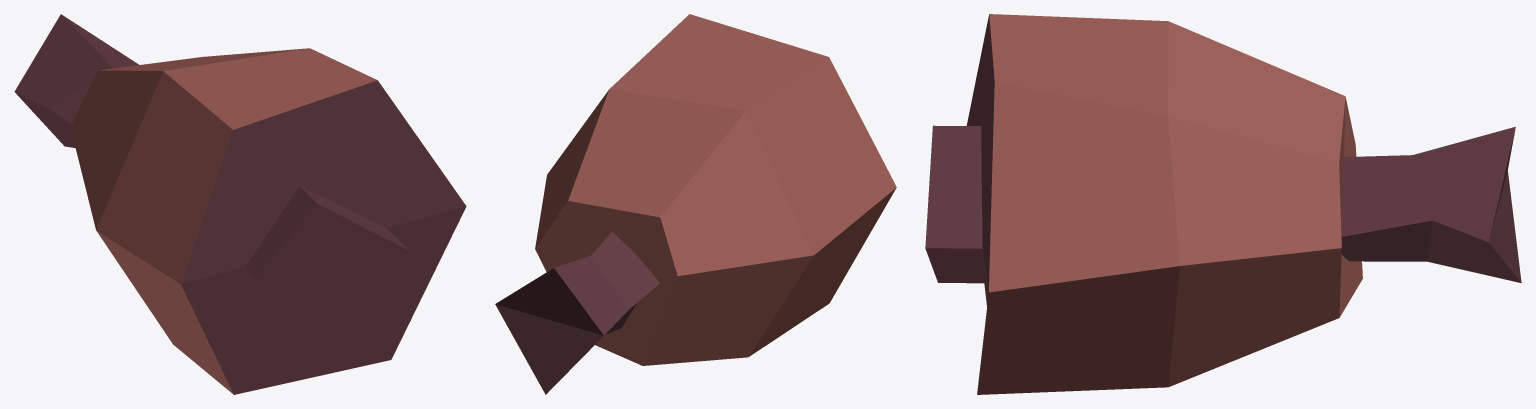
The model's file is SM_Meat_Haunch_B.fbx.
3 renders of one model, left to right at view 1: azimuth 30°, elevation 25°; view 2: azimuth 150°, elevation 25°; view 3: azimuth 270°, elevation 25°, orthographic. The views are drawn at different scales.
Parts seen in each view (by area): view 1: SM_Meat_Haunch_b; view 2: SM_Meat_Haunch_b; view 3: SM_Meat_Haunch_b.
Boxes of the visible parts, x1=… form: SM_Meat_Haunch_b: x1=14, y1=14, x2=466, y2=394; SM_Meat_Haunch_b: x1=495, y1=14, x2=896, y2=394; SM_Meat_Haunch_b: x1=925, y1=14, x2=1521, y2=394.
Size of the model in its own units: 0.3905 by 0.3578 by 0.605.
